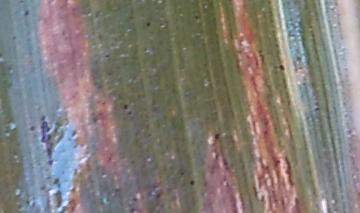tarspot: (38, 111, 56, 168), (283, 153, 295, 186), (288, 196, 301, 213), (54, 188, 64, 210), (220, 152, 231, 171), (56, 126, 65, 147), (52, 176, 62, 187), (128, 205, 141, 213), (70, 128, 78, 138), (278, 64, 287, 72), (22, 8, 31, 16), (177, 169, 186, 177), (126, 109, 134, 117), (29, 124, 36, 133), (212, 133, 220, 140), (39, 184, 47, 191), (25, 197, 30, 207), (188, 179, 195, 186), (145, 20, 152, 27), (122, 103, 129, 110), (102, 53, 110, 59), (193, 13, 199, 21), (30, 201, 36, 209), (132, 196, 139, 202)
